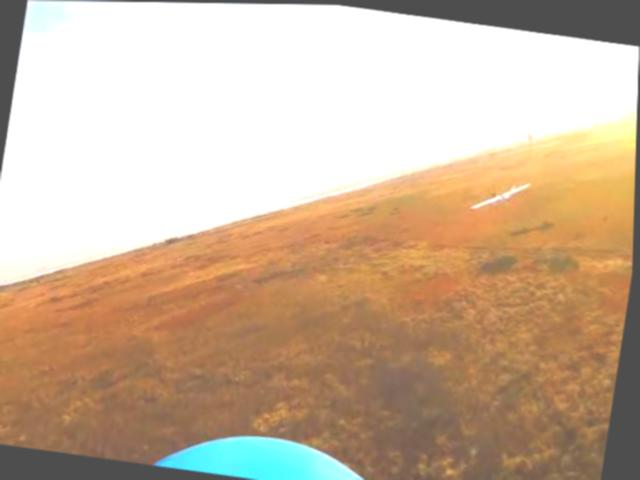uav: (470, 170, 533, 219)
